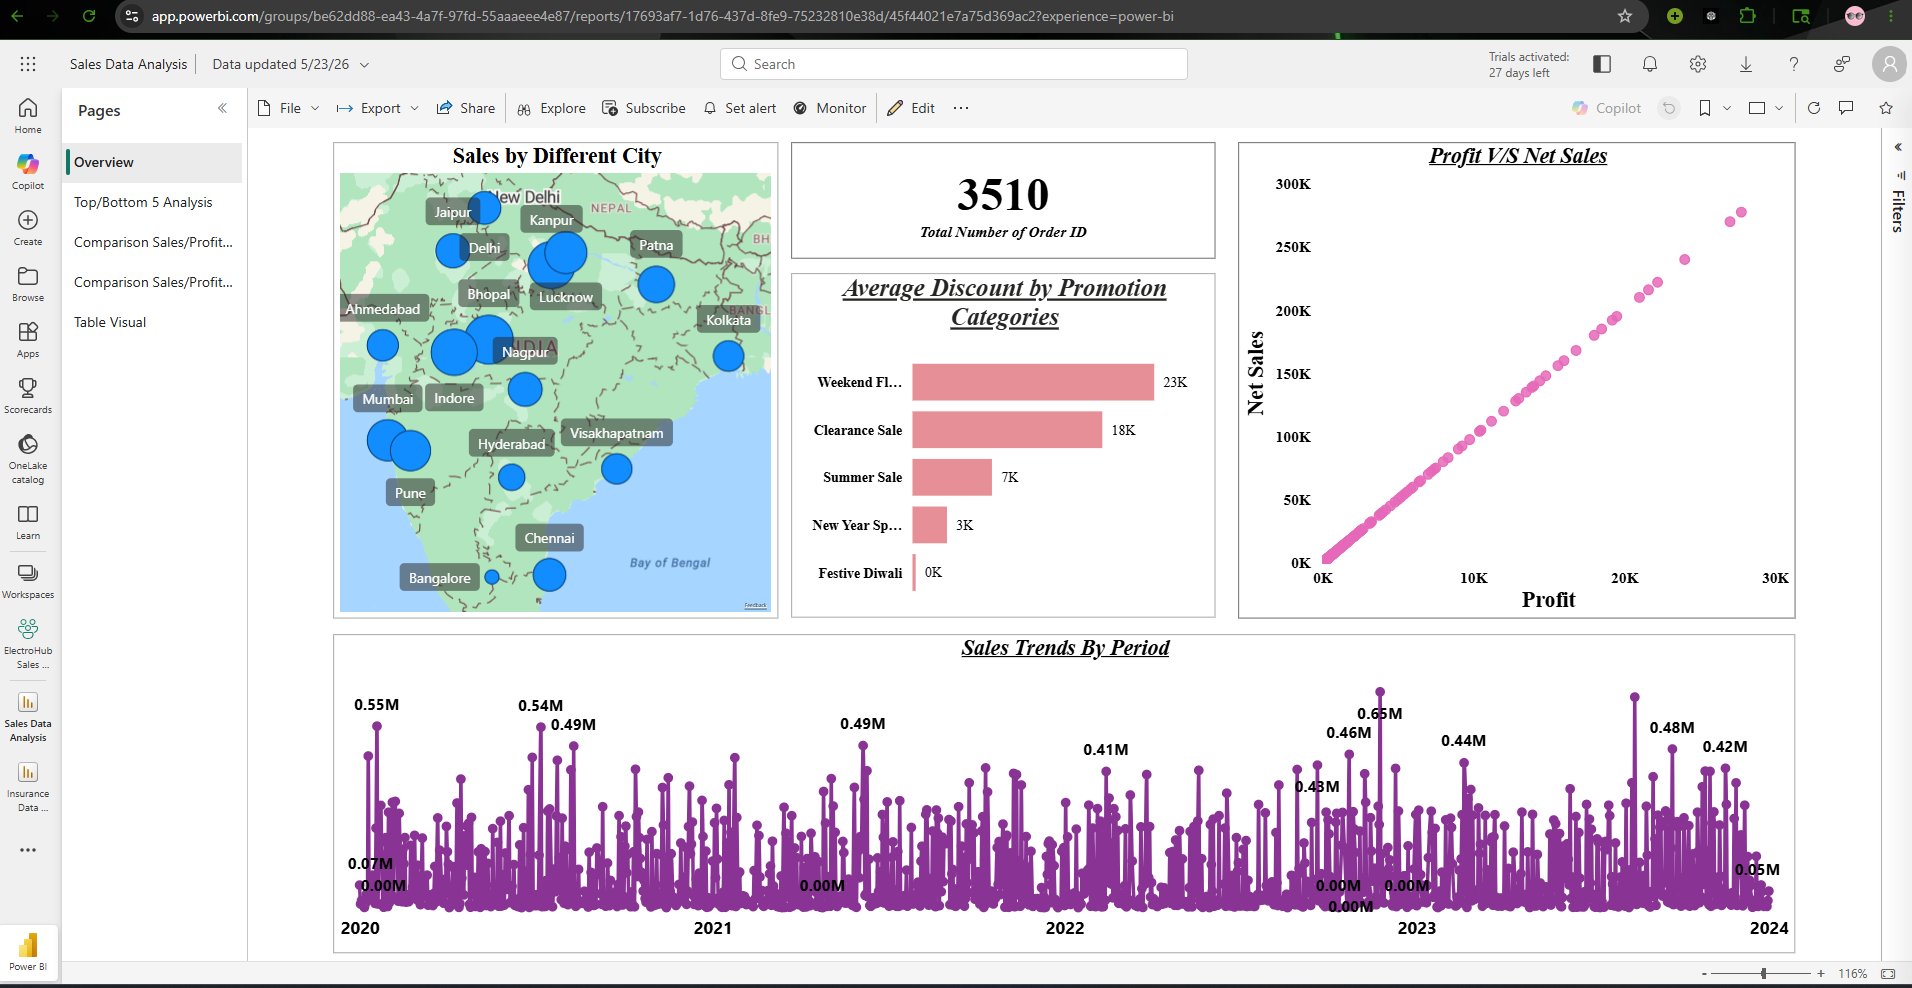

The dashboard page shown, as its layout file describes it:
{"tool":"powerbi","page":{"name":"Overview","canvas":[1280,720],"ordinal":0},"visuals":[{"type":"lineChart","title":"Sales Trends By Period","fields":{"Y":["Sum(Fact Table.Net Sales   )"],"Category":["Fact Table.Date (dd/mm/yyyy)"]},"box":[8.2,437.1,1264.1,275.7],"z":0},{"type":"scatterChart","title":"Profit V/S Net Sales   ","fields":{"X":["Fact Table.Profit"],"Y":["Fact Table.Net Sales   "]},"box":[789.8,11.8,482.4,411.7],"z":1000},{"type":"barChart","title":"Average Discount by Promotion Categories","fields":{"Y":["Avg(Fact Table.Discount)"],"Category":["Dim Promotion.Promotion Name"]},"box":[403.5,125.1,367.3,298.3],"z":2000},{"type":"azureMap","title":"Sales by Different City","fields":{"Size":["Sum(Fact Table.Net Sales   )"],"Category":["Dim Customers.City"]},"box":[8.2,11.8,385.4,411.7],"z":3000},{"type":"card","fields":{"Values":["Count(Fact Table.Order ID)"]},"box":[403.5,11.8,367.3,100.7],"z":4000}]}

Visuals, with their boxes on the page's 1280x720 design canvas (x1, y1, x2, y2). These are canvas units, not pixel positions in the 1912x988 screenshot, which may show the page scaled, cropped or inside an application window:
"Sales Trends By Period" lineChart: 8 437 1272 713
"Profit V/S Net Sales   " scatterChart: 790 12 1272 424
"Average Discount by Promotion Categories" barChart: 404 125 771 423
"Sales by Different City" azureMap: 8 12 394 424
card - Count(Fact Table.Order ID): 404 12 771 112
